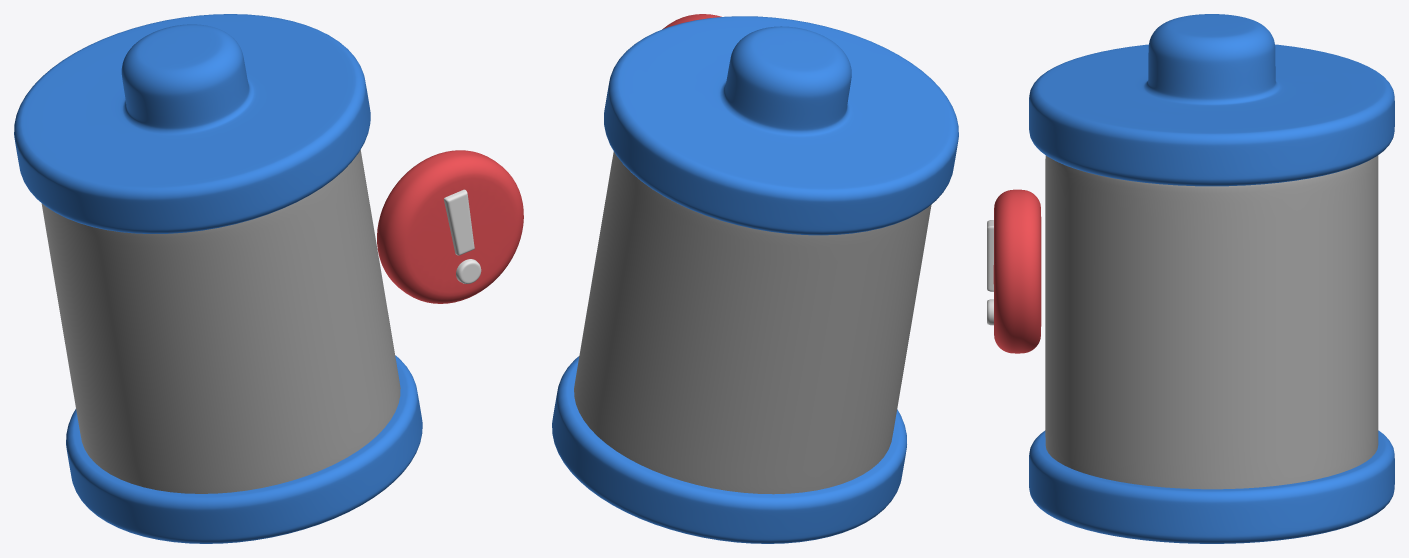
The model's file is low-batt-animated-3d-icon-1036894726793.glb.
3 views of the same model, side by side, from view 1: azimuth 30°, elevation 25°; view 2: azimuth 150°, elevation 25°; view 3: azimuth 270°, elevation 25° (orthographic). The views are drawn at different scales.
Visible parts, largest first — view 1: Glass, Case, Base.004, Warning; view 2: Glass, Case; view 3: Glass, Case, Base.004, Warning.
Boxes of the visible parts, left/top/right/bottom form: Glass: left=41, top=150, right=400, bottom=493; Case: left=14, top=14, right=422, bottom=543; Base.004: left=377, top=150, right=523, bottom=303; Warning: left=444, top=189, right=481, bottom=283; Glass: left=574, top=151, right=931, bottom=494; Case: left=552, top=16, right=958, bottom=543; Glass: left=1045, top=155, right=1378, bottom=489; Case: left=1029, top=14, right=1394, bottom=543; Base.004: left=993, top=189, right=1041, bottom=353; Warning: left=987, top=220, right=993, bottom=325.
Size of the model in its own units: 2.45 by 2.76 by 2.17.
